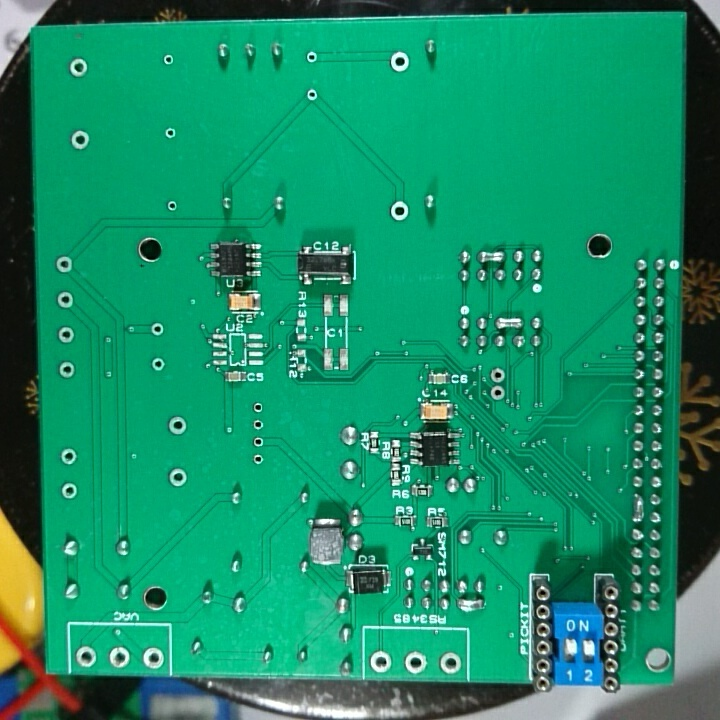F: (387, 48, 414, 75), (401, 649, 428, 675), (436, 650, 464, 675), (65, 55, 93, 80), (139, 646, 166, 671), (65, 128, 93, 152), (367, 650, 393, 675), (74, 643, 98, 670), (164, 414, 188, 438), (108, 646, 131, 670), (389, 199, 412, 223), (53, 289, 76, 311), (52, 254, 76, 275), (56, 360, 78, 382), (55, 324, 77, 346), (165, 466, 188, 487), (59, 481, 80, 503), (59, 446, 79, 469), (302, 84, 322, 105), (488, 366, 509, 384), (488, 383, 506, 403), (148, 320, 166, 339), (148, 355, 165, 373), (250, 452, 268, 469), (251, 415, 267, 434), (163, 125, 179, 143), (251, 434, 267, 452), (303, 48, 319, 66), (161, 52, 176, 69), (250, 400, 267, 415), (164, 198, 179, 213)
P: (630, 492, 648, 526), (494, 314, 526, 332), (454, 596, 486, 614), (477, 247, 507, 265)
